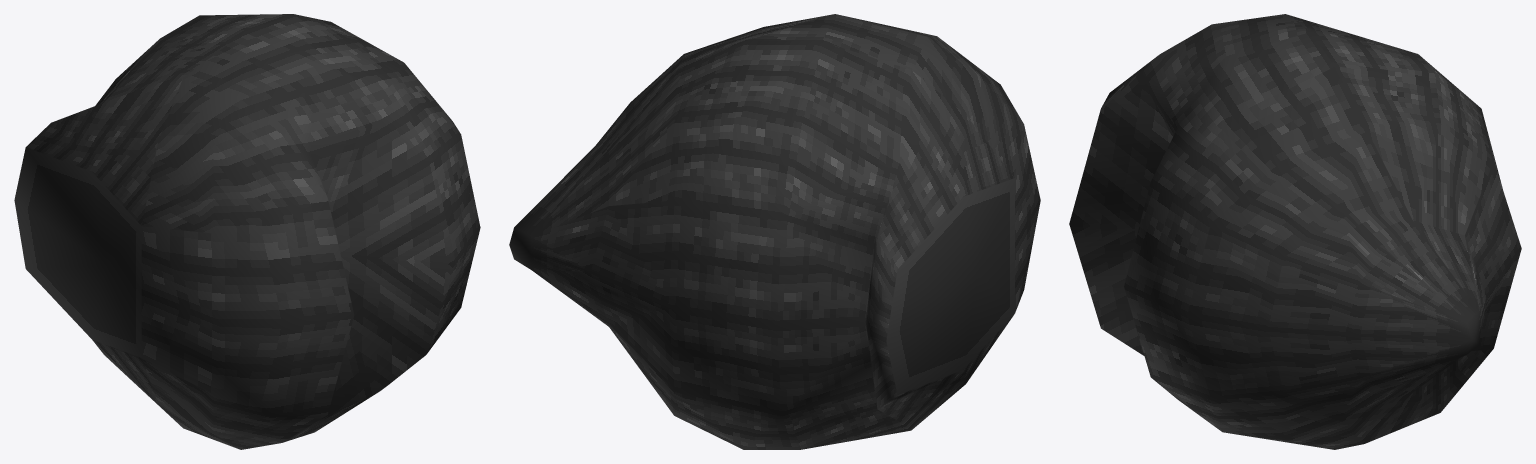
The model's file is hlmt_mask_ski.dae.
The picture shows the model from 3 angles, left to right: view 1: azimuth 30°, elevation 25°; view 2: azimuth 150°, elevation 25°; view 3: azimuth 270°, elevation 25°; orthographic projection. The views are drawn at different scales.
Visible parts, largest first — view 1: hlmt_mask_ski; view 2: hlmt_mask_ski; view 3: hlmt_mask_ski.
Part boxes in pixels (bbox=[...]): hlmt_mask_ski: bbox=[14, 14, 480, 449]; hlmt_mask_ski: bbox=[509, 14, 1040, 449]; hlmt_mask_ski: bbox=[1069, 14, 1521, 449].
Size of the model in its own units: 23.27 by 23.27 by 24.25.
1 material, 1 textured.
